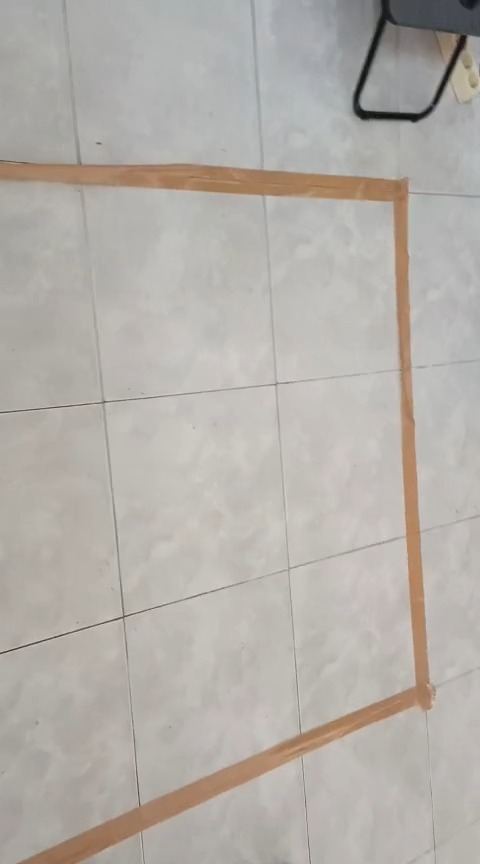floor marking: (0, 162, 434, 863)
